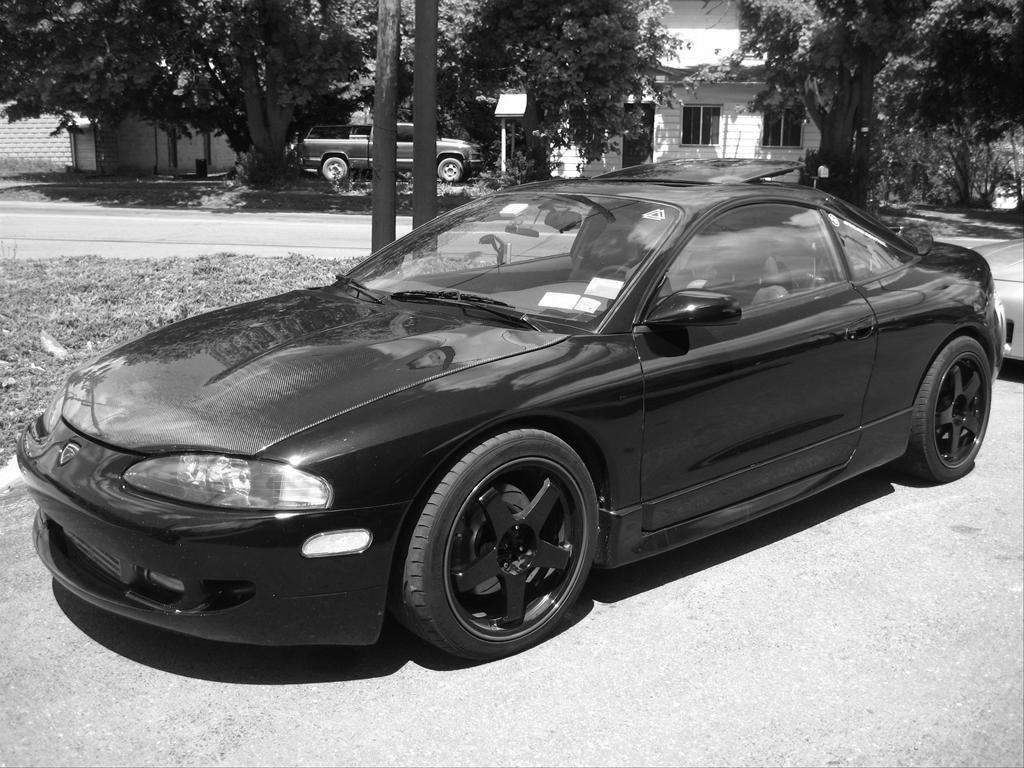car: (16, 181, 999, 667)
